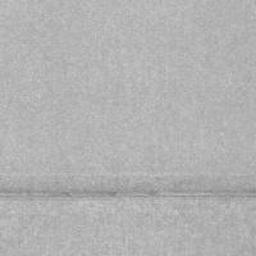Welding line: (0, 188, 256, 198)
